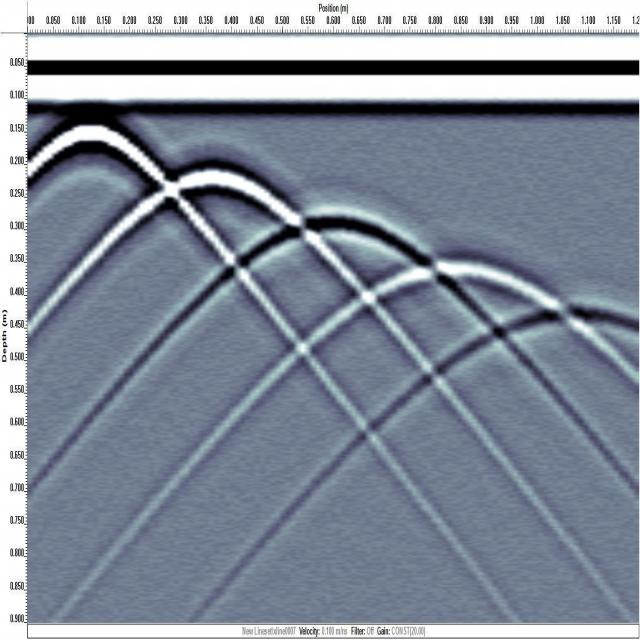hyperbola: (365, 232, 553, 322), (236, 194, 427, 280), (144, 162, 297, 239), (31, 112, 164, 192)
